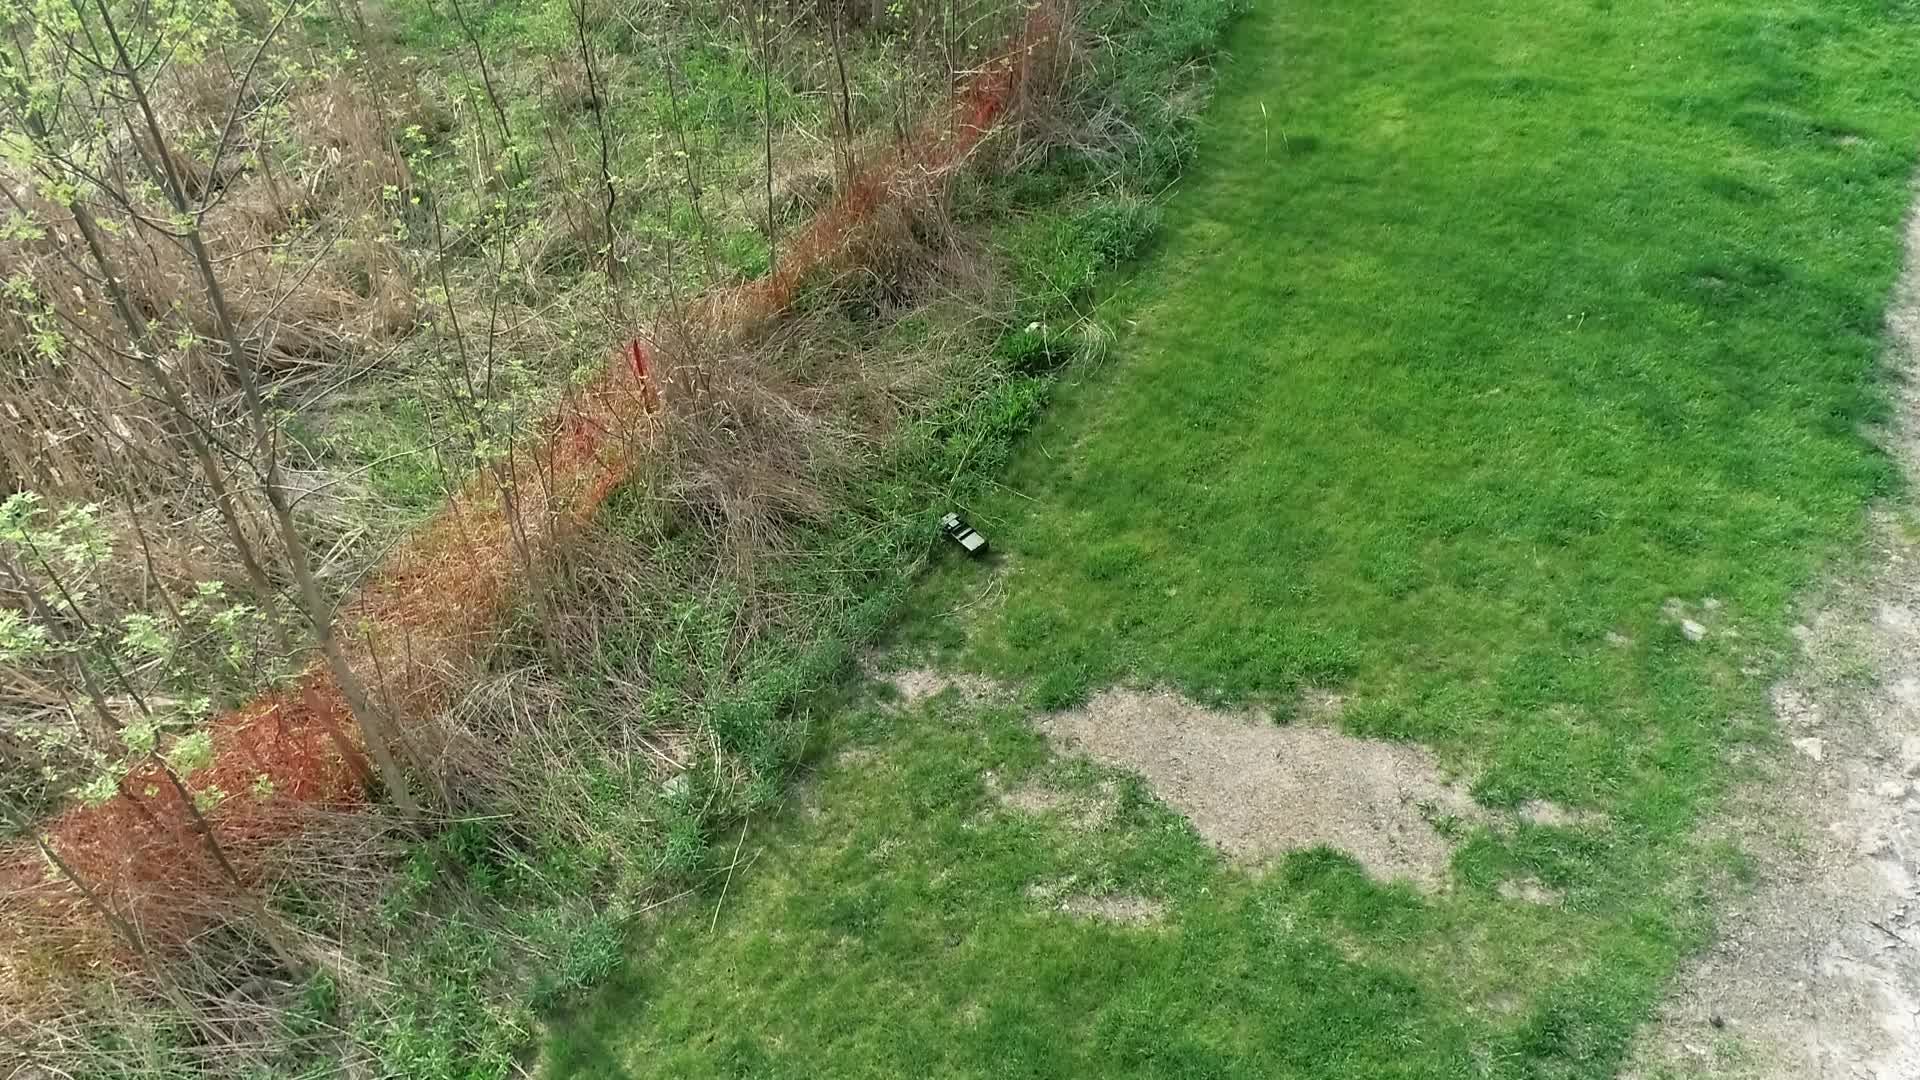transporter9: (940, 510, 988, 556)
